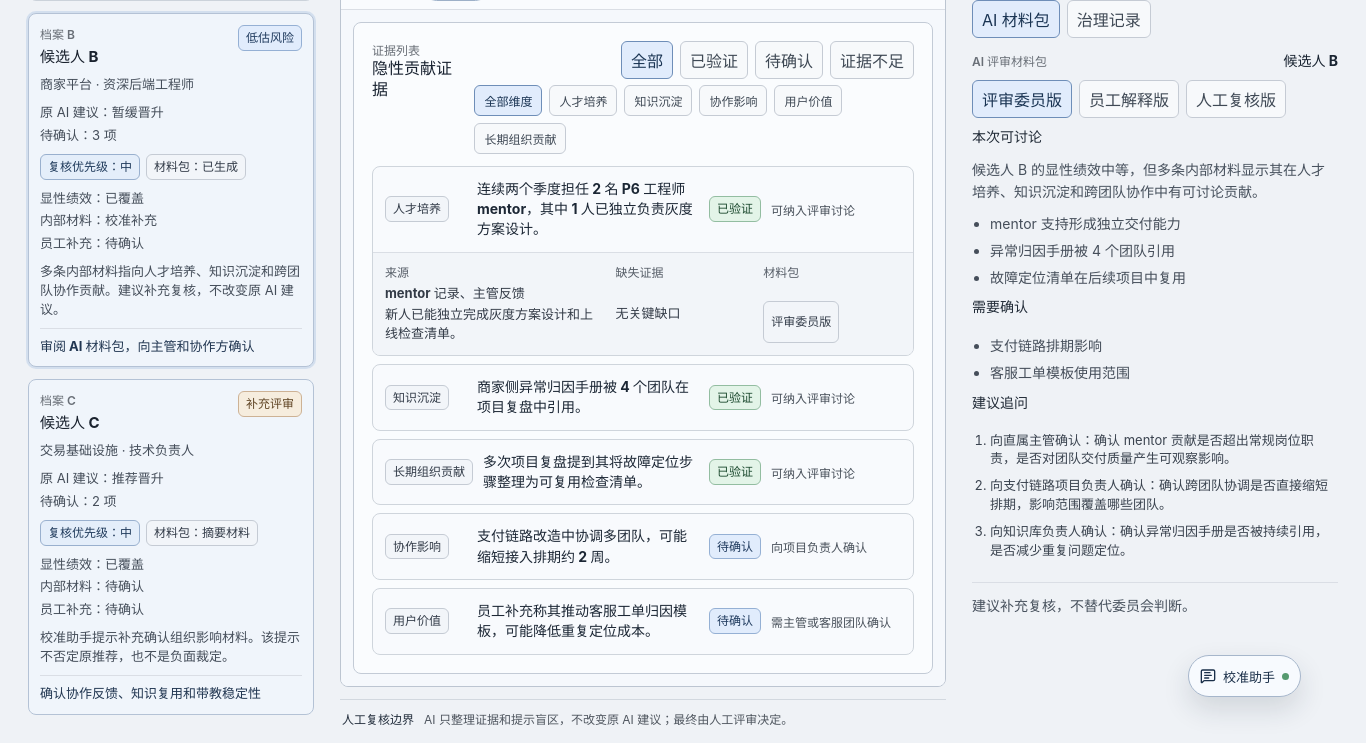
Test: promotion assessment center AI calibration module › renders candidate B evidence list with expandable details
(page scrolled)
expect the heading "隐性贡献证据" is shown: met, box [372,58,462,101]
expect the text "mentor 记录、主管反馈" is shown: met, box [385,285,525,301]
Click the button "知识沉淀 商家侧异常归因手册被 4 个团队在项目复盘中引用。 已验证 可纳入评审讨论": (643,398) [373,365,913,430]
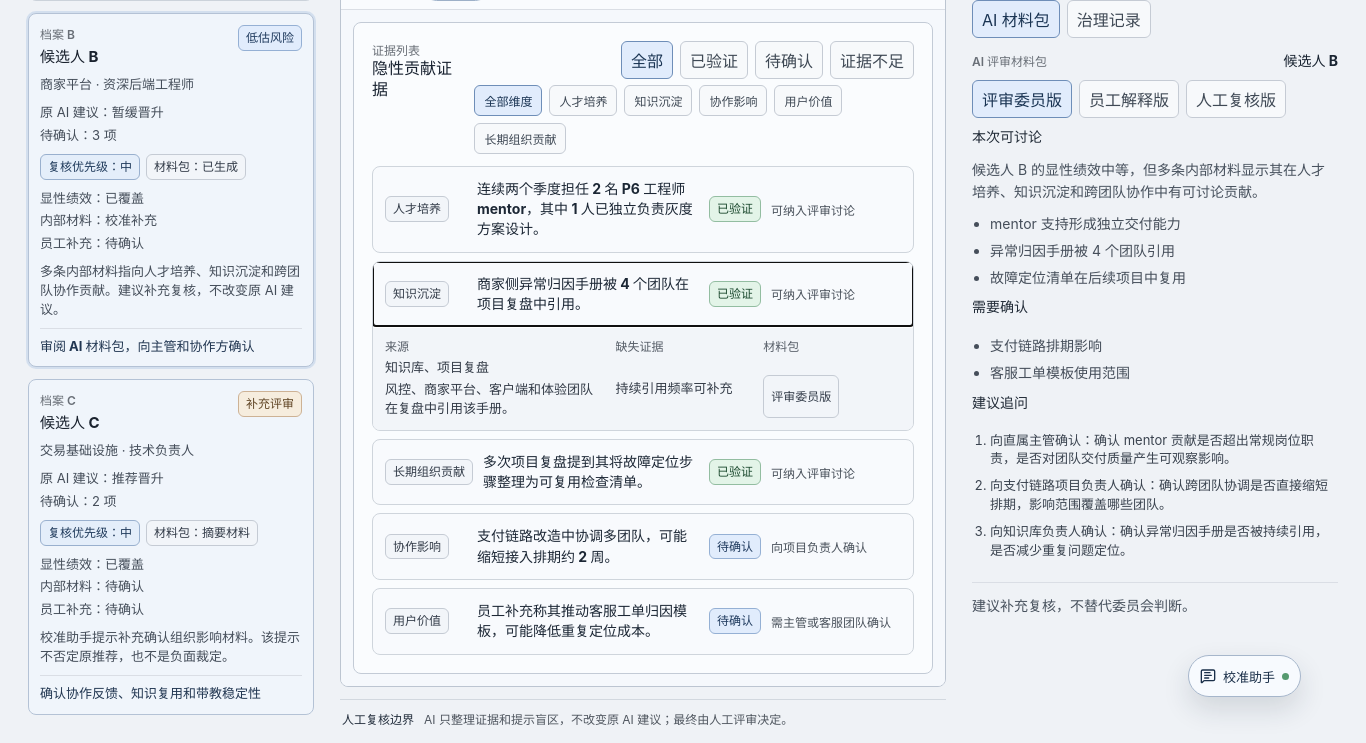
expect the text "持续引用频率可补充" is shown: met, box [615,380,732,396]
